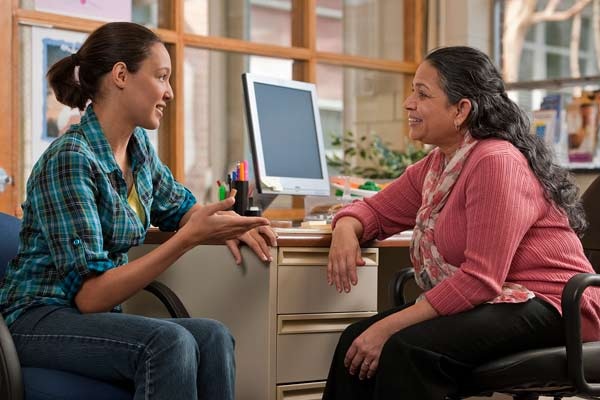Person: (26, 43, 232, 393), (350, 67, 573, 361)
